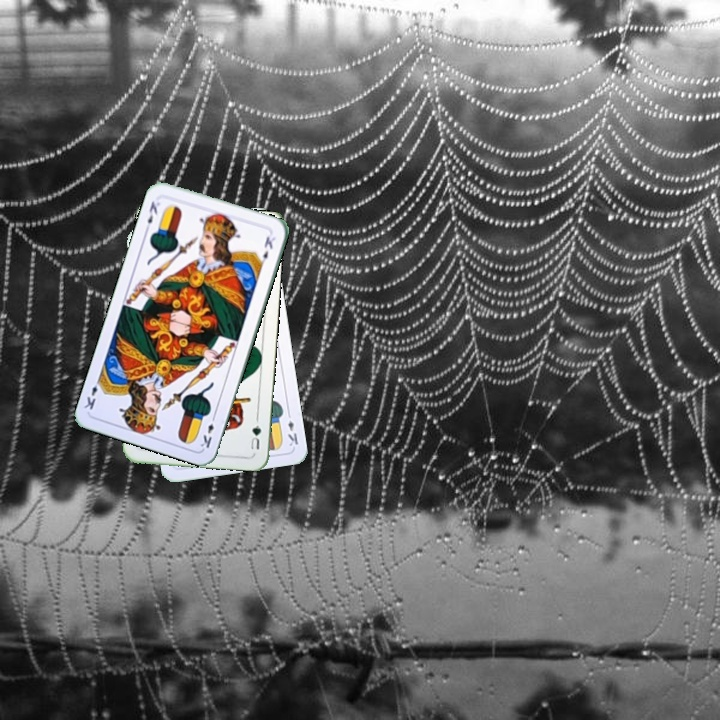EK: (196, 411, 218, 451), (141, 197, 162, 234), (283, 408, 301, 449)
GU: (247, 421, 264, 452)
